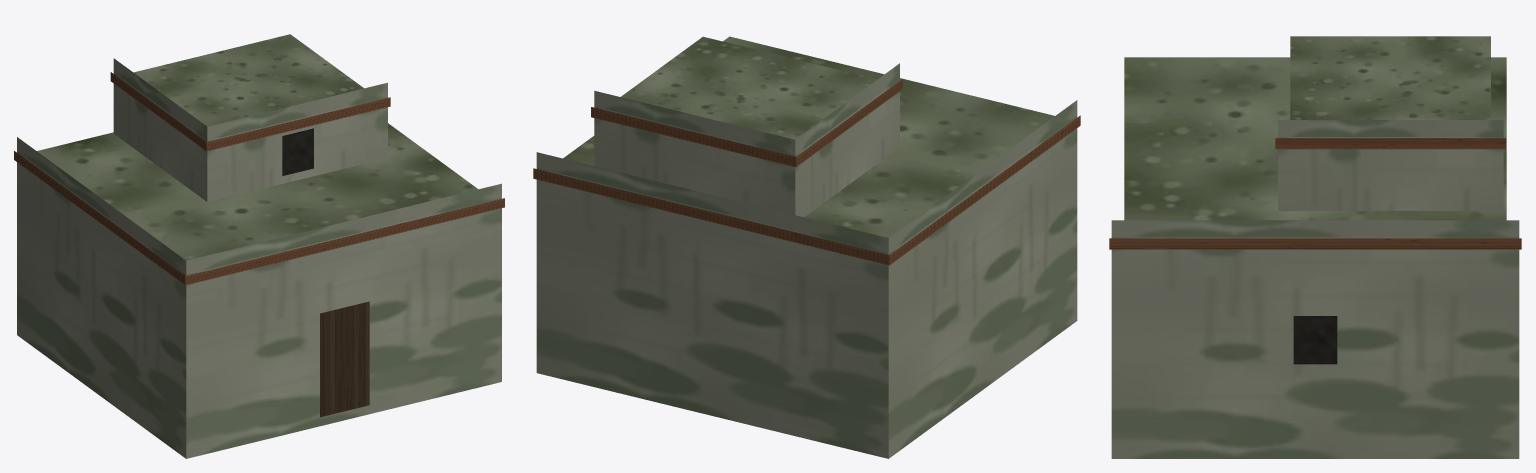
File: ae_jungle_stone_large_terrace_lod2.glb
3 renders of one model, left to right at view 1: azimuth 30°, elevation 25°; view 2: azimuth 150°, elevation 25°; view 3: azimuth 270°, elevation 25°, orthographic. The views are drawn at different scales.
Parts seen in each view (by area): view 1: ae_jungle_stone_large_terrace_lod2; view 2: ae_jungle_stone_large_terrace_lod2; view 3: ae_jungle_stone_large_terrace_lod2.
Boxes of the visible parts, x1,y1,x2,y2 form: ae_jungle_stone_large_terrace_lod2: (14, 34, 504, 458); ae_jungle_stone_large_terrace_lod2: (533, 36, 1080, 458); ae_jungle_stone_large_terrace_lod2: (1109, 36, 1521, 458).
Size of the model in its own units: 7.08 by 5.5 by 6.58.
1 material, 1 textured.
